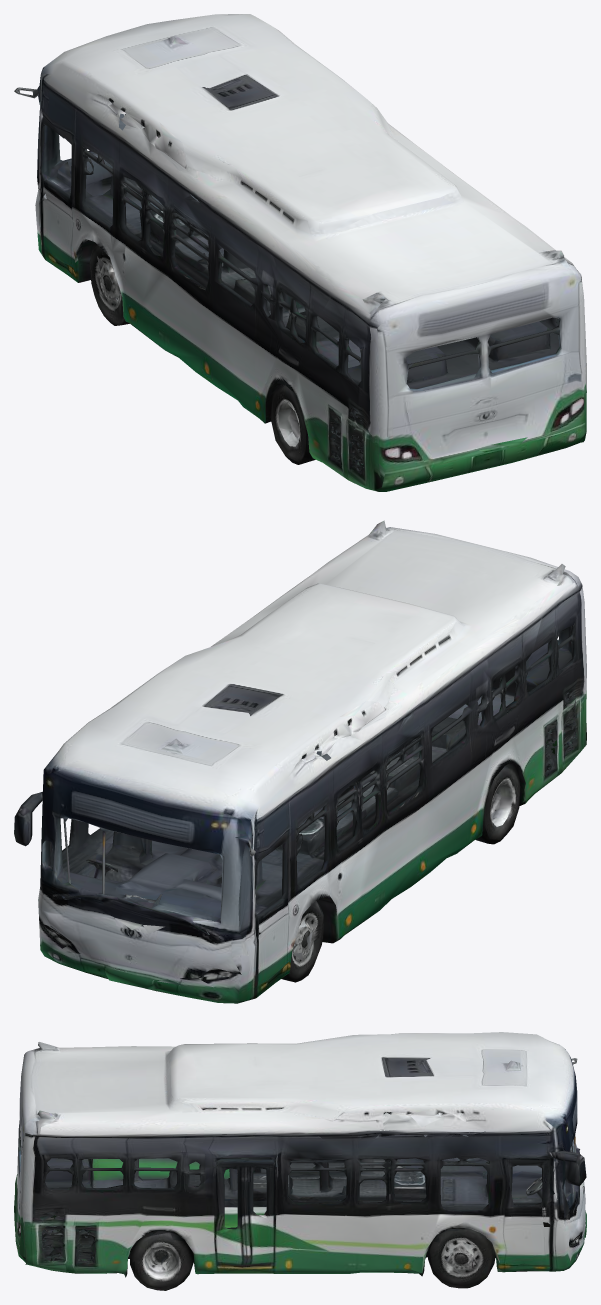
The model's file is bus.glb.
3 views of the same model, one above another, from view 1: azimuth 30°, elevation 25°; view 2: azimuth 150°, elevation 25°; view 3: azimuth 270°, elevation 25° (orthographic). The views are drawn at different scales.
Visible parts, largest first — view 1: tripo_node_3ed6d47d; view 2: tripo_node_3ed6d47d; view 3: tripo_node_3ed6d47d.
Boxes of the visible parts, x1=… form: tripo_node_3ed6d47d: x1=14, y1=14, x2=586, y2=491; tripo_node_3ed6d47d: x1=14, y1=520, x2=586, y2=1003; tripo_node_3ed6d47d: x1=14, y1=1032, x2=586, y2=1290.
Bounding box in the file's own units: 4.53 × 4.36 × 11.8.
Materials: 1 (1 with a texture image).
